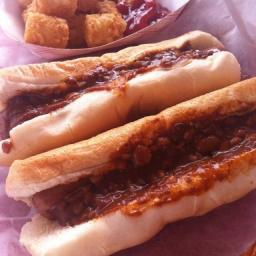hotdog: (33, 188, 99, 222)
